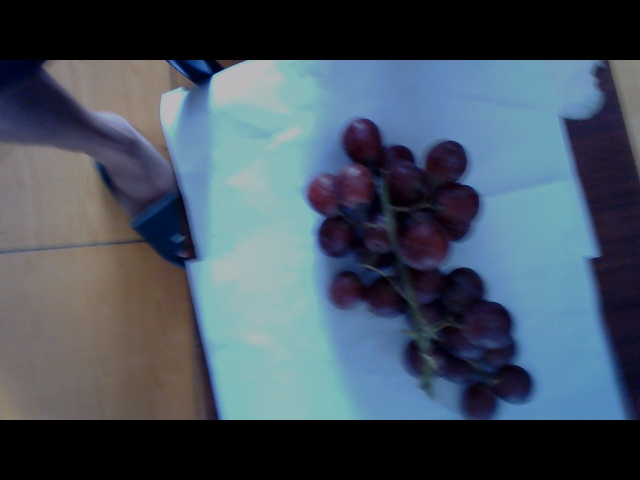grape: (325, 121, 536, 409)
